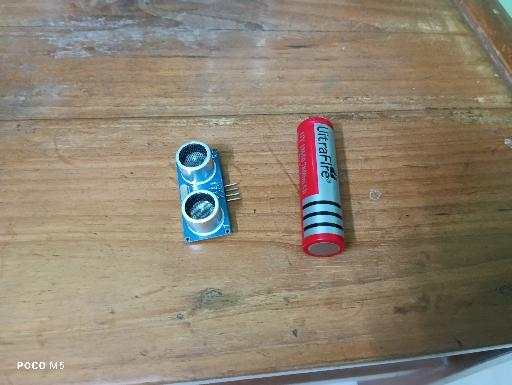Battery: (297, 117, 346, 258)
sensor: (174, 141, 242, 244)
